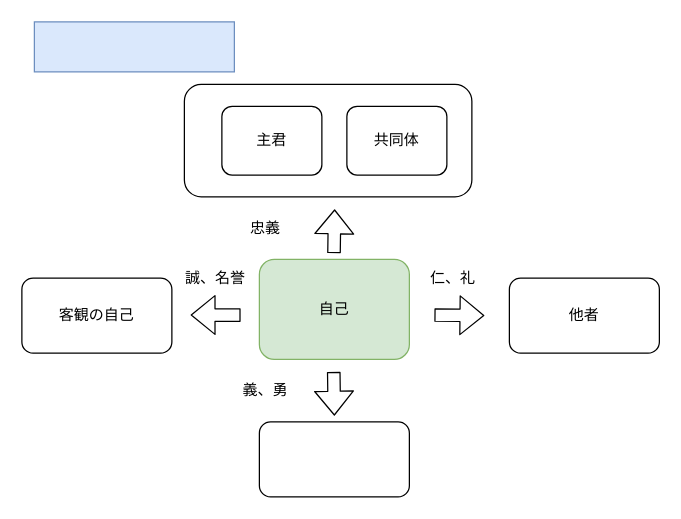
Some shapes in this 681 by 519 pixel diagram are drawn without their labels. Each missing label, with the centre of its shape:
"正義、道理" belongs at (333,459).
"武士道 ～七徳目～" belongs at (133,46).
